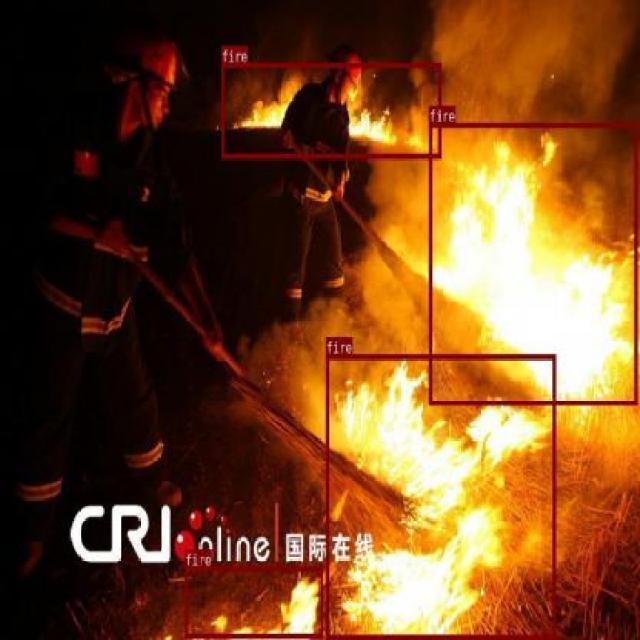Fire: (326, 354, 554, 638), (428, 122, 638, 404), (221, 62, 441, 158), (185, 565, 322, 638)
